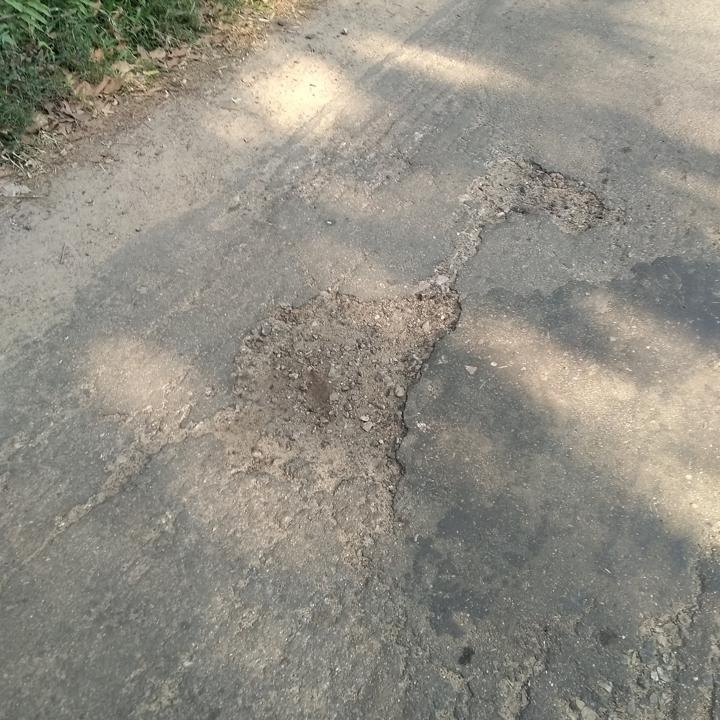pothole: (215, 277, 467, 501), (467, 146, 611, 234)
